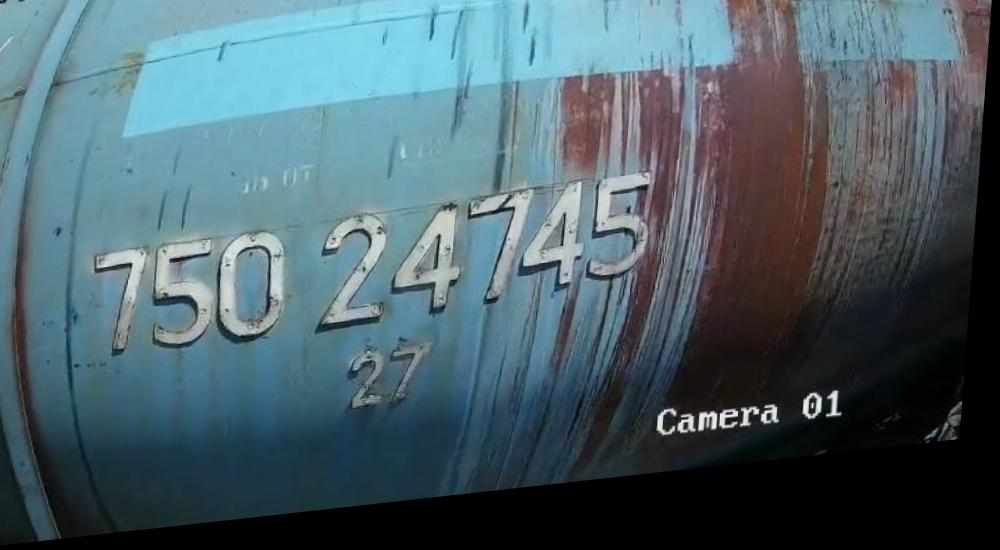Wagon-number: (83, 178, 666, 366)
